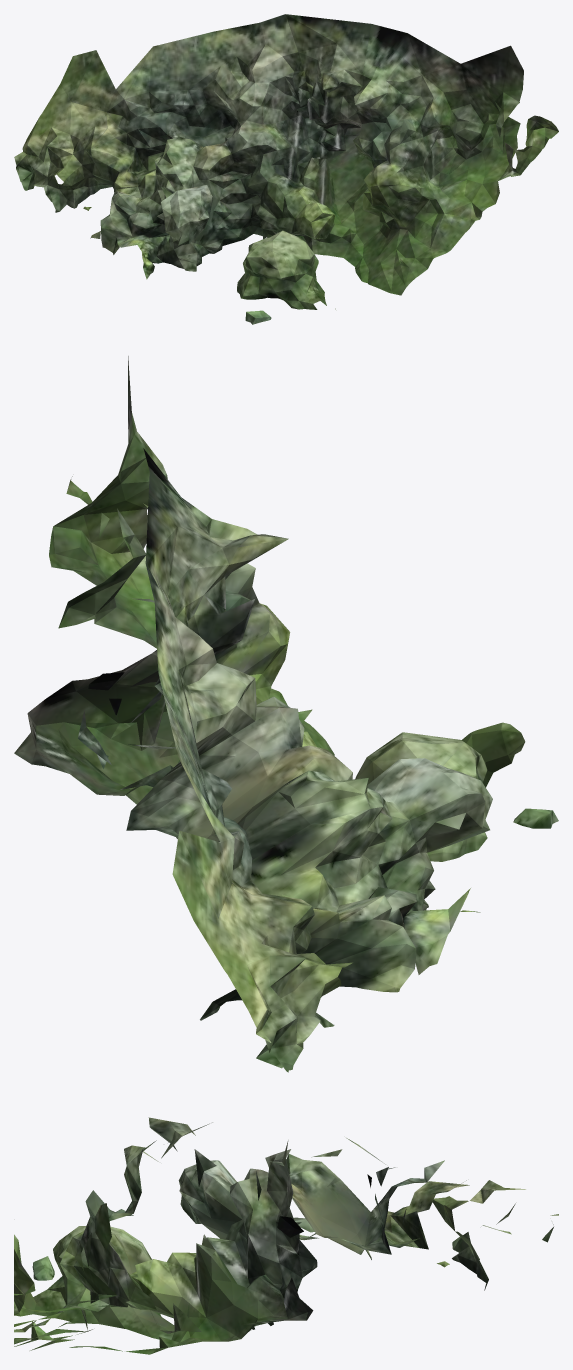
The picture shows the model from 3 angles, top to bottom: view 1: azimuth 30°, elevation 25°; view 2: azimuth 150°, elevation 25°; view 3: azimuth 270°, elevation 25°; orthographic projection. The views are drawn at different scales.
Size of the model in its own units: 47.12 by 29.34 by 52.22.
Materials: 4 (4 with a texture image).
